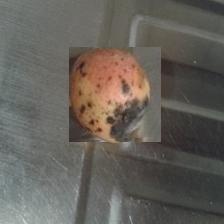Mango Semirotten: (69, 47, 161, 142)
